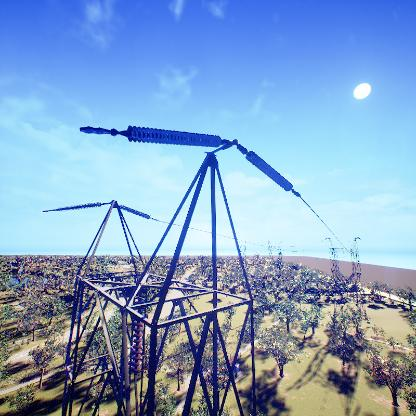insulator: (126, 124, 223, 149), (244, 150, 295, 193), (130, 295, 147, 375), (118, 203, 151, 220), (53, 201, 103, 212)
